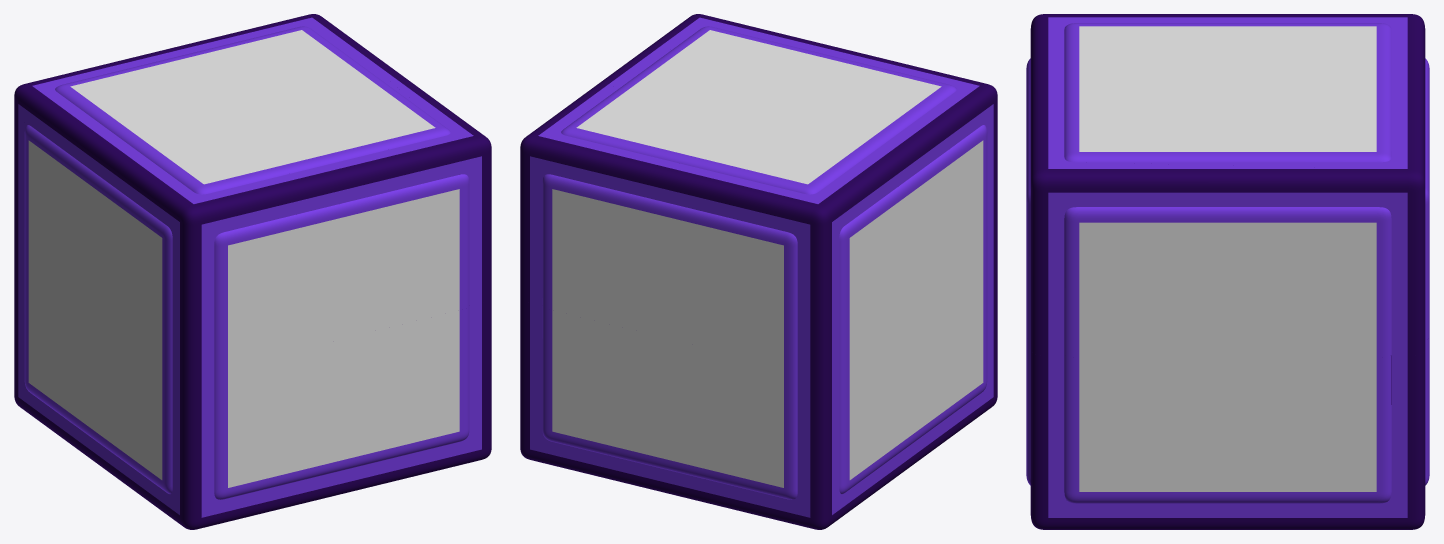
3 renders of one model, left to right at view 1: azimuth 30°, elevation 25°; view 2: azimuth 150°, elevation 25°; view 3: azimuth 270°, elevation 25°, orthographic. The views are drawn at different scales.
Parts seen in each view (by area): view 1: boxTop, boxBottom; view 2: boxTop, boxBottom; view 3: boxTop, boxBottom.
Part boxes in pixels (x1=…): boxTop: x1=14, y1=14, x2=491, y2=372; boxBottom: x1=14, y1=247, x2=491, y2=529; boxTop: x1=520, y1=14, x2=997, y2=372; boxBottom: x1=520, y1=247, x2=997, y2=529; boxTop: x1=1026, y1=14, x2=1429, y2=357; boxBottom: x1=1026, y1=337, x2=1429, y2=529.
Bounding box in the file's own units: 2.05 × 2.05 × 2.05.
